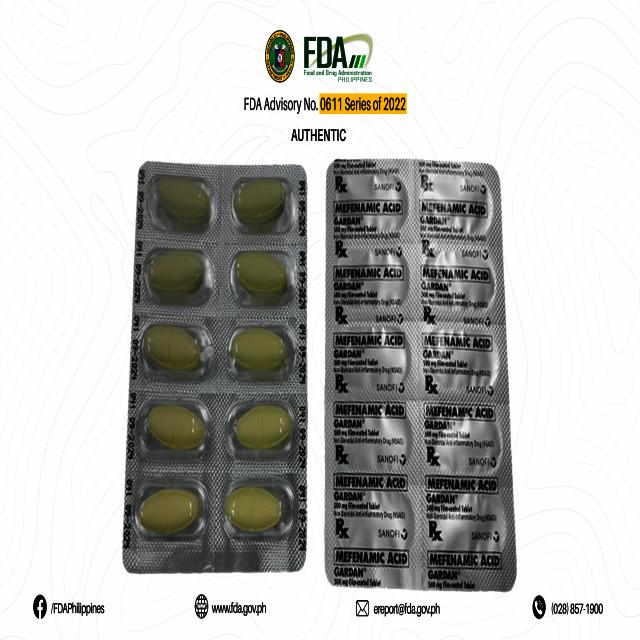authentic: (322, 146, 515, 595), (130, 155, 308, 567)
